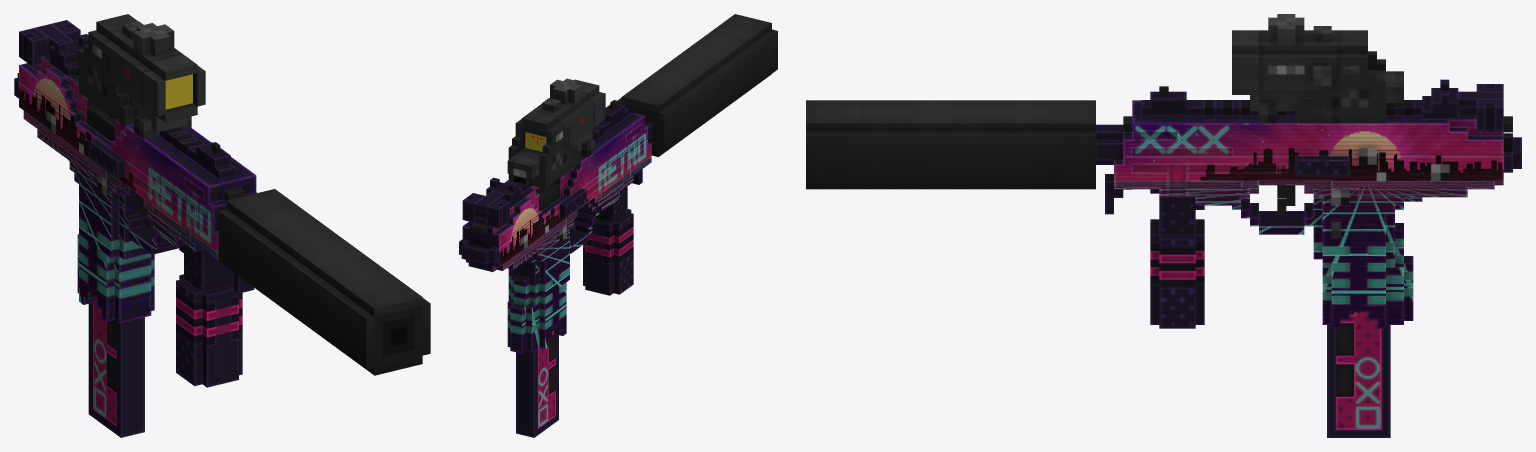
File: RD_TMP_RETRO.glb
3 views of the same model, side by side, from view 1: azimuth 30°, elevation 25°; view 2: azimuth 150°, elevation 25°; view 3: azimuth 270°, elevation 25° (orthographic). The views are drawn at different scales.
Parts seen in each view (by area): view 1: TMP, SILENCER_8X8, SCOPE_TASCO, TMP_CLIP, SCOPE_EOTECH, TMP_BOLT; view 2: TMP, SILENCER_8X8, SCOPE_TASCO, TMP_CLIP, SCOPE_EOTECH, TMP_BOLT, SCOPE_AIMPOINT; view 3: TMP, SILENCER_8X8, SCOPE_TASCO, TMP_CLIP, SCOPE_EOTECH, TMP_BOLT, SCOPE_AIMPOINT.
Part boxes in pixels (x1,y1,x2,y2): TMP: (14, 24, 256, 387); SILENCER_8X8: (218, 189, 430, 375); SCOPE_TASCO: (88, 14, 205, 139); TMP_CLIP: (88, 298, 144, 437); SCOPE_EOTECH: (79, 41, 188, 132); TMP_BOLT: (19, 20, 80, 66); TMP: (459, 100, 652, 353); SILENCER_8X8: (617, 14, 777, 156); SCOPE_TASCO: (515, 78, 605, 157); TMP_CLIP: (516, 331, 558, 437); SCOPE_EOTECH: (508, 125, 592, 188); TMP_BOLT: (462, 193, 509, 228); SCOPE_AIMPOINT: (507, 126, 569, 184); TMP: (1096, 79, 1521, 328); SILENCER_8X8: (806, 100, 1095, 189); SCOPE_TASCO: (1232, 14, 1367, 123); TMP_CLIP: (1327, 312, 1390, 437); SCOPE_EOTECH: (1250, 51, 1385, 123); TMP_BOLT: (1458, 84, 1503, 131); SCOPE_AIMPOINT: (1322, 66, 1403, 107).
Bounding box in the file's own units: 0.0787 × 0.492 × 0.7774.
8 materials, 8 textured.
